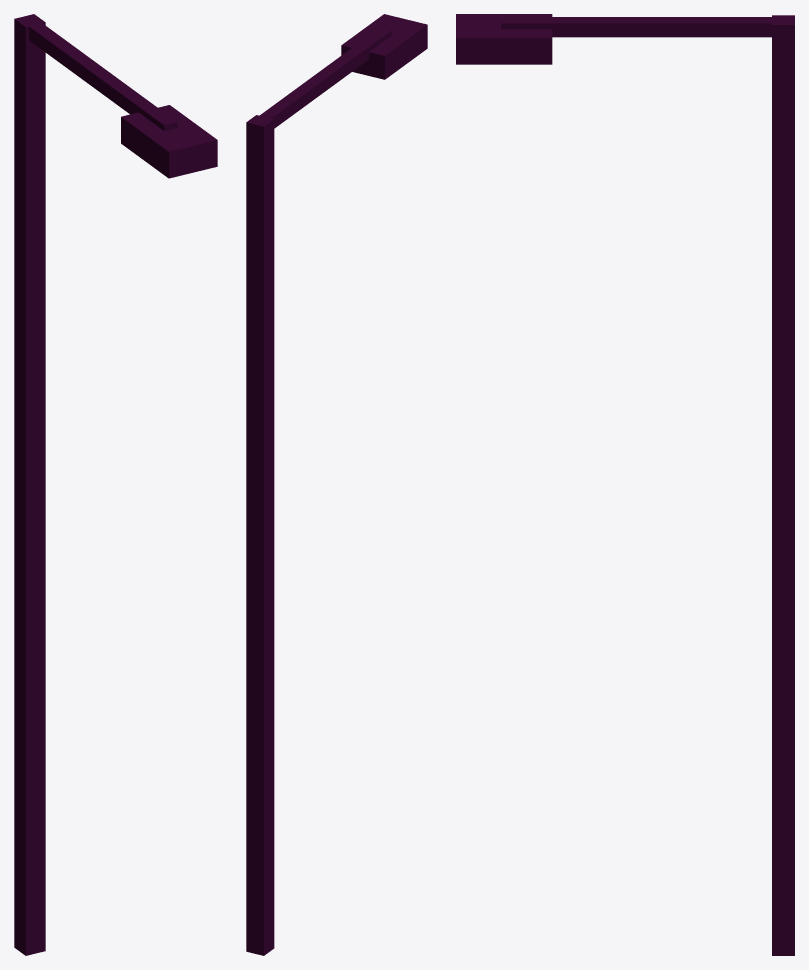
File: street_lamp.glb
3 views of the same model, side by side, from view 1: azimuth 30°, elevation 25°; view 2: azimuth 150°, elevation 25°; view 3: azimuth 270°, elevation 25° (orthographic). The views are drawn at different scales.
Parts seen in each view (by area): view 1: street_lamp; view 2: street_lamp; view 3: street_lamp.
Part boxes in pixels (x1,y1,x2,y2): street_lamp: [14, 14, 217, 955]; street_lamp: [246, 14, 427, 955]; street_lamp: [456, 14, 794, 955].
Bounding box in the file's own units: 0.4404 × 8 × 2.64.
